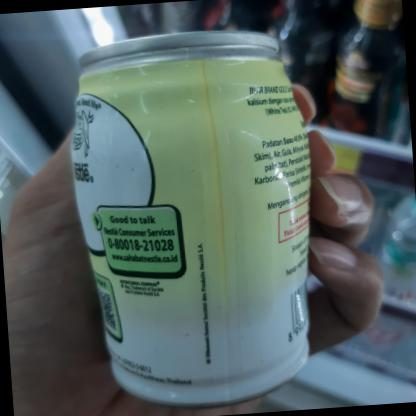alumunium_can: (61, 20, 330, 413)
